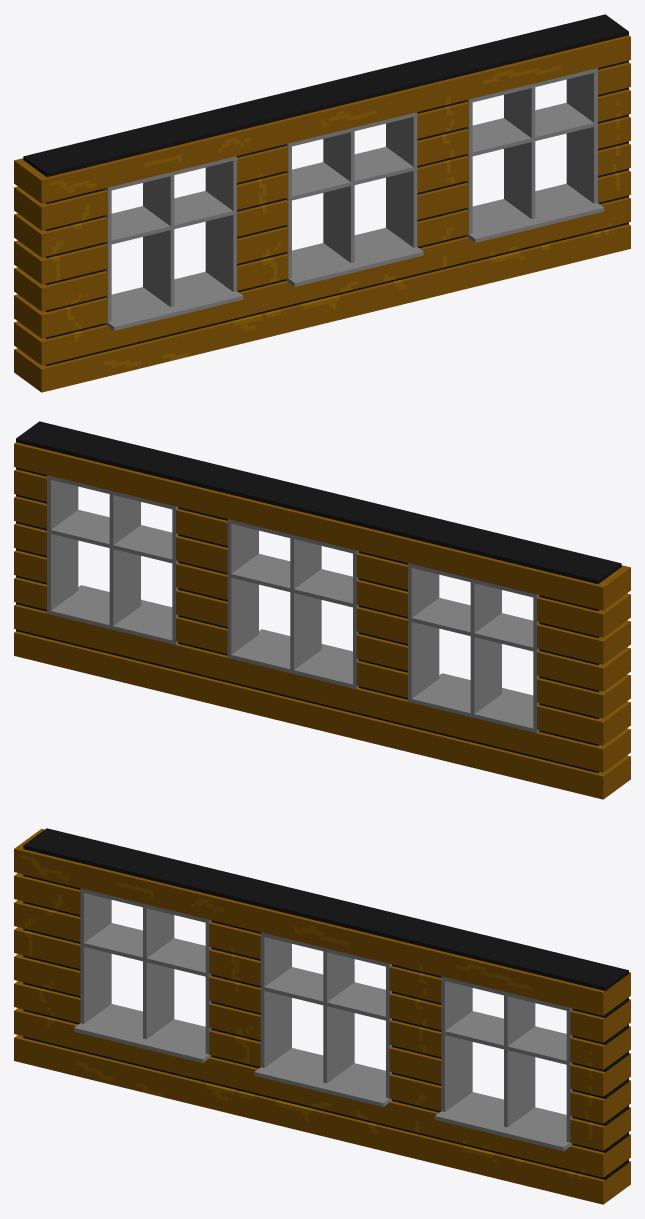
Rendered from wall_with_window.vox.obj.
3 views of the same model, one above another, from view 1: azimuth 30°, elevation 25°; view 2: azimuth 150°, elevation 25°; view 3: azimuth 330°, elevation 25° (orthographic).
Size of the model in its own units: 16 by 5.6 by 1.6.
1 material, 1 textured.
